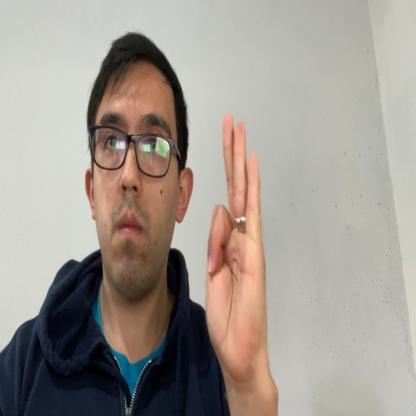F: (205, 114, 268, 377)
